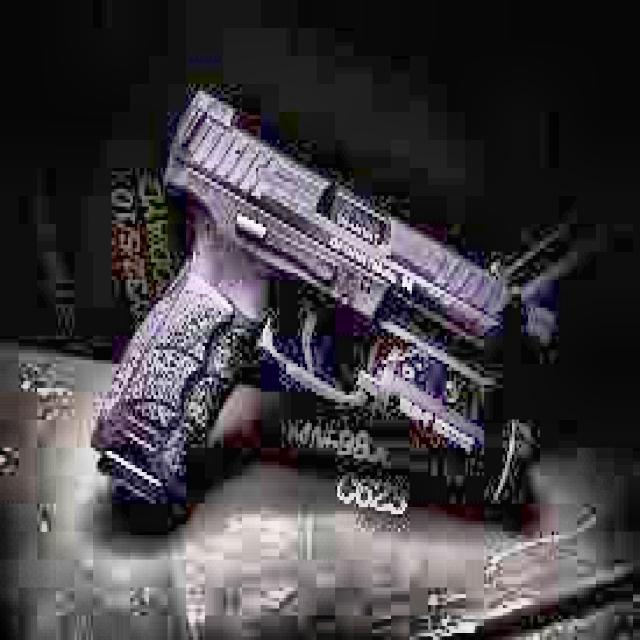HKVP9: (88, 81, 575, 528)
